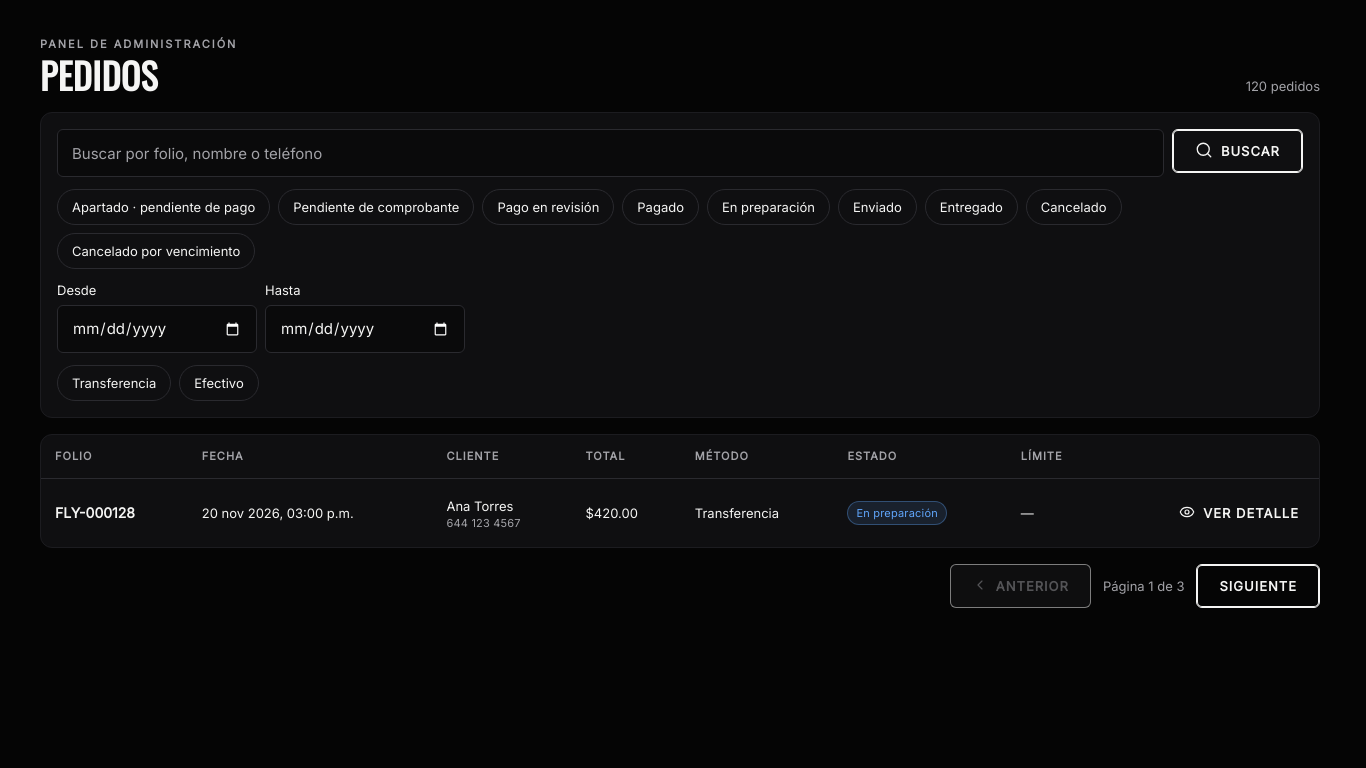
PedidosAdminVista › pagina de 50 en 50 con los mismos filtros
expect the text "FLY-000128" is shown: met, box [55,504,135,521]
expect the text "Página 1 de 3" is shown: met, box [1103,576,1184,596]
Step 1. Click the button "Siguiente" → point(1258, 586), box [1196,564,1320,608]
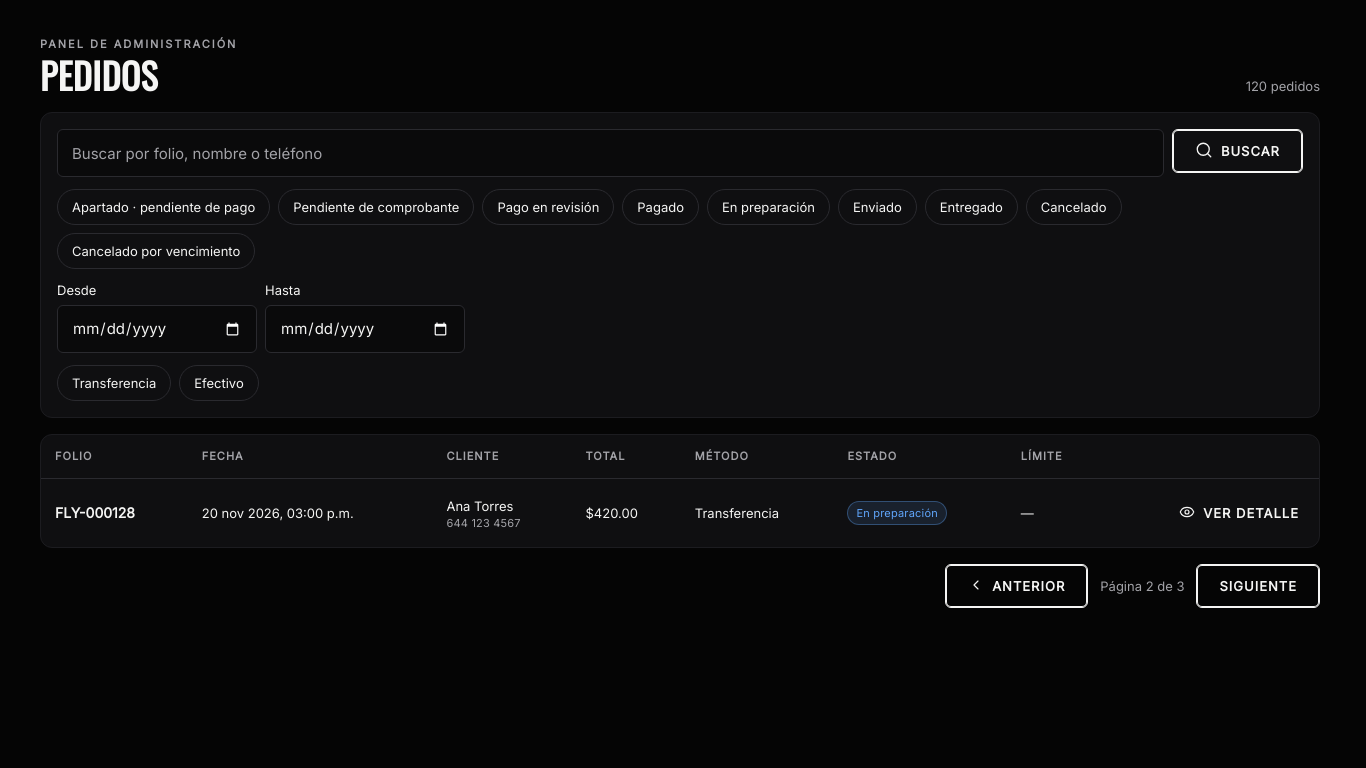
expect the text "Página 2 de 3" is shown: met, box [1100,576,1184,596]
expect the button "Anterior" is enabled: met, box [945,564,1088,608]
